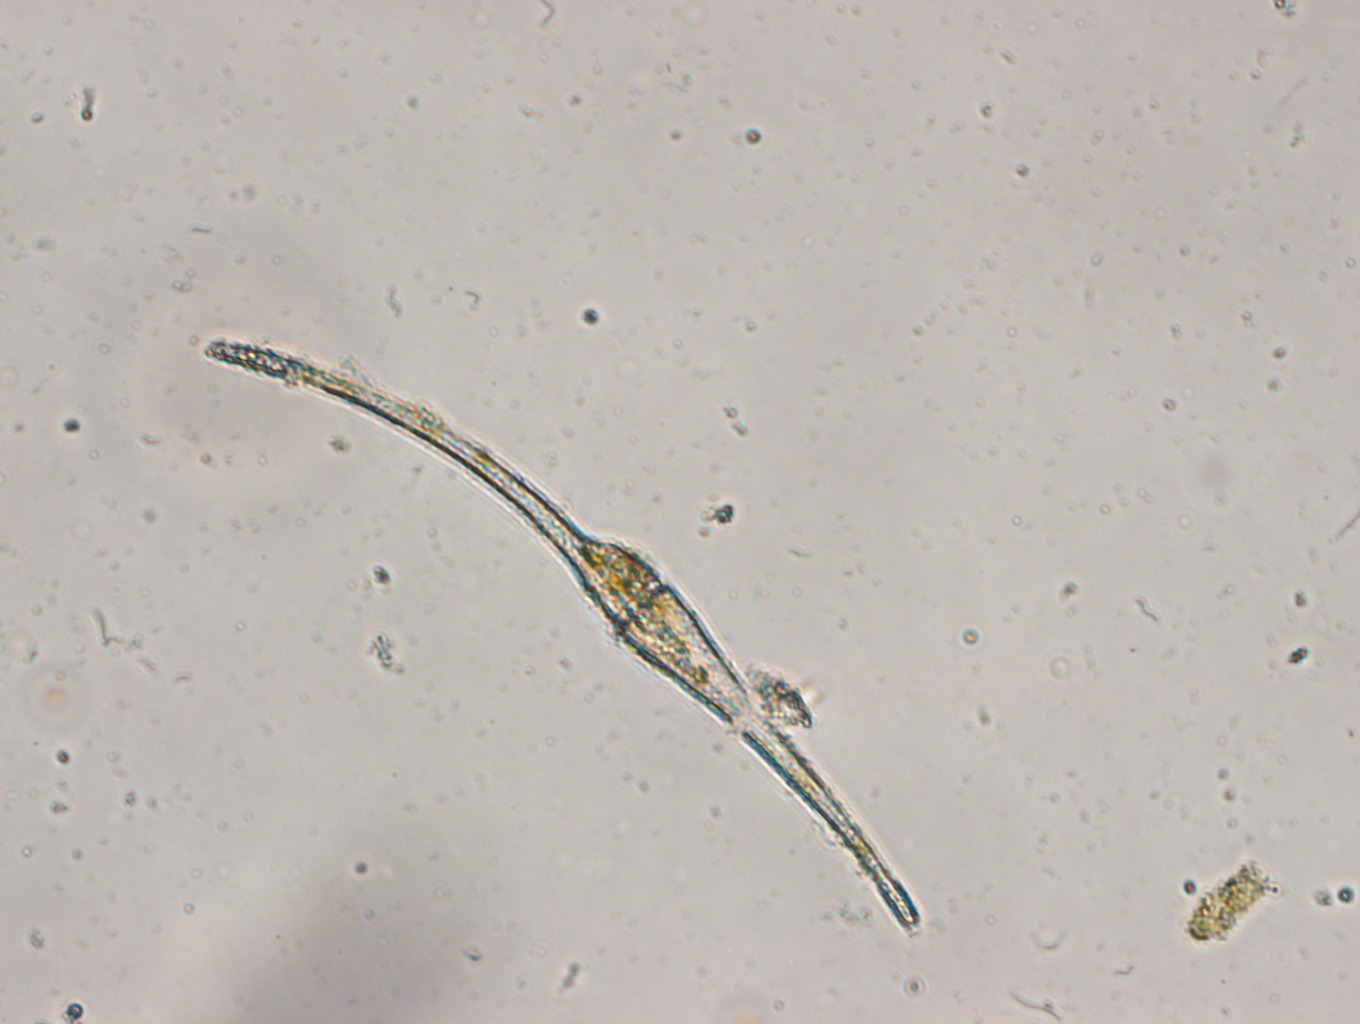ceratium fusus: (200, 330, 928, 945)
